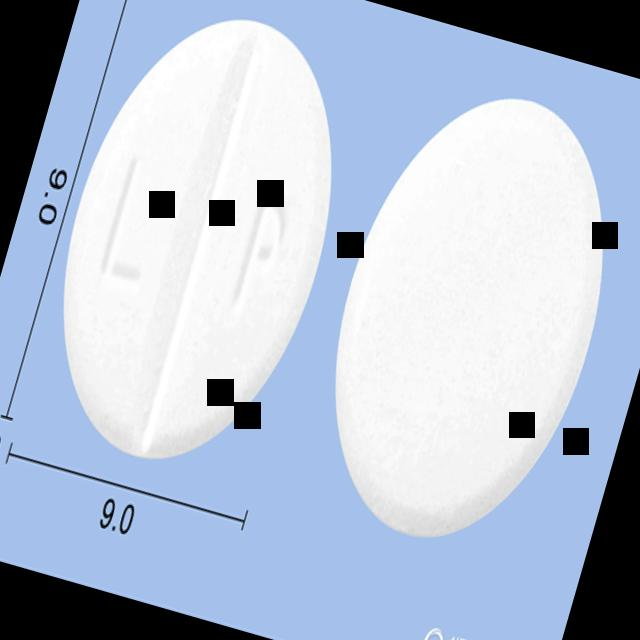Ciptec: (16, 0, 379, 490), (287, 63, 640, 566)
